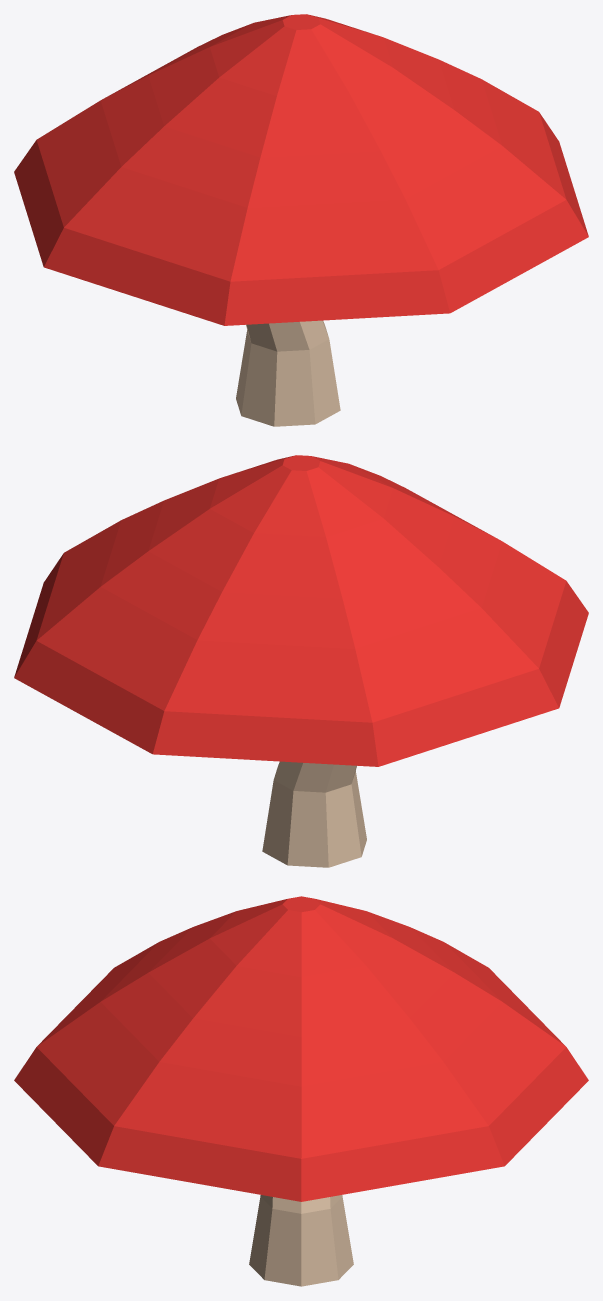
File: MUSHROOMS_V3.fbx
3 renders of one model, top to bottom at view 1: azimuth 30°, elevation 25°; view 2: azimuth 150°, elevation 25°; view 3: azimuth 270°, elevation 25°, orthographic. The views are drawn at different scales.
Parts seen in each view (by area): view 1: Circle.001; view 2: Circle.001; view 3: Circle.001.
Part boxes in pixels (left/top/right/bottom): Circle.001: left=14, top=14, right=588, bottom=426; Circle.001: left=14, top=455, right=588, bottom=867; Circle.001: left=14, top=896, right=588, bottom=1286.
Size of the model in its own units: 336 by 236 by 336.
